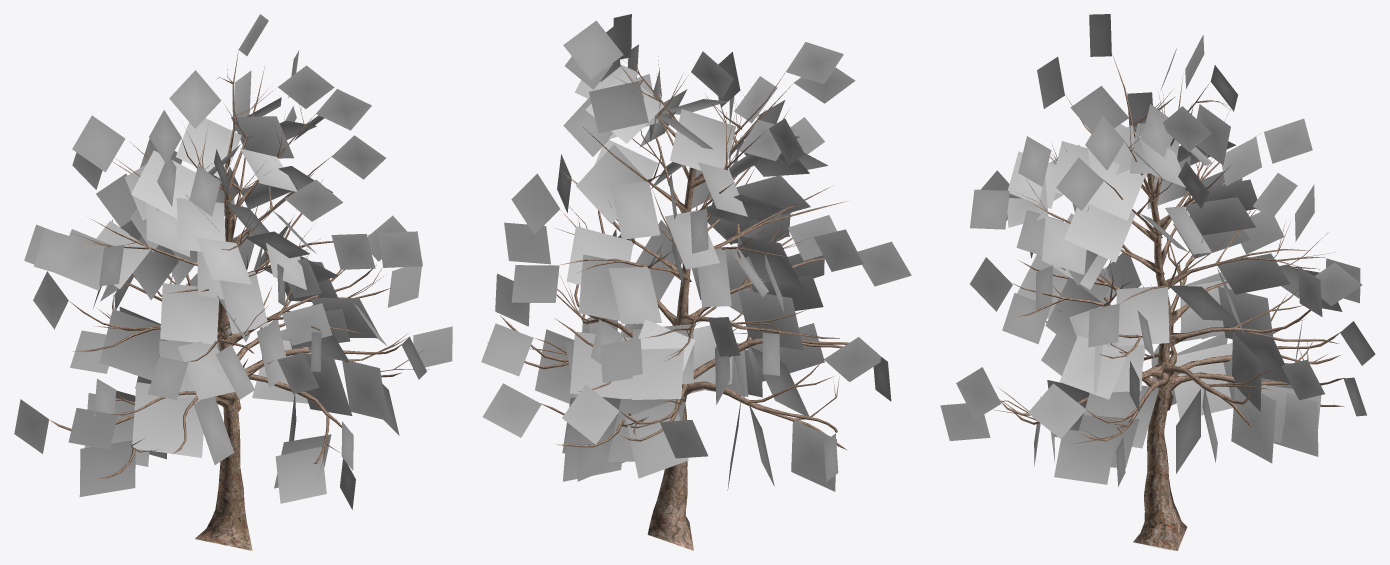
The model's file is Resinwood_Tree_imposter.obj.
The picture shows the model from 3 angles, left to right: view 1: azimuth 30°, elevation 25°; view 2: azimuth 150°, elevation 25°; view 3: azimuth 270°, elevation 25°; orthographic projection. The views are drawn at different scales.
Visible parts, largest first — view 1: branch04, bark02; view 2: branch04, bark02; view 3: branch04, bark02.
Boxes of the visible parts, x1,y1,x2,y2 form: branch04: (14,14,452,509); bark02: (50,50,429,550); branch04: (481,14,911,491); bark02: (487,46,857,550); branch04: (940,14,1375,486); bark02: (993,55,1344,550).
Bounding box in the file's own units: 53.93 × 67.37 × 52.23.
